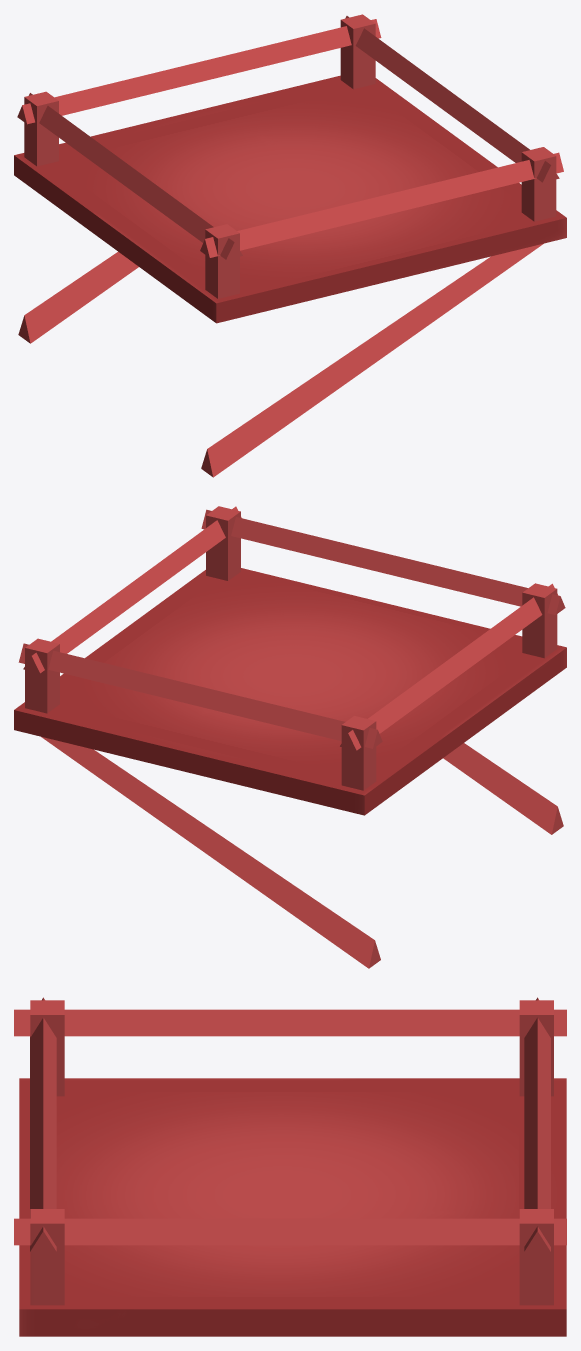
File: Plataforma 2.fbx
The picture shows the model from 3 angles, top to bottom: view 1: azimuth 30°, elevation 25°; view 2: azimuth 150°, elevation 25°; view 3: azimuth 270°, elevation 25°; orthographic projection. The views are drawn at different scales.
Visible parts, largest first — view 1: Cylinder.012; view 2: Cylinder.012; view 3: Cylinder.012.
Part boxes in pixels (x1=…): Cylinder.012: x1=14, y1=14, x2=566, y2=477; Cylinder.012: x1=14, y1=506, x2=566, y2=968; Cylinder.012: x1=14, y1=997, x2=566, y2=1336.
Size of the model in its own units: 595 by 380 by 595.
